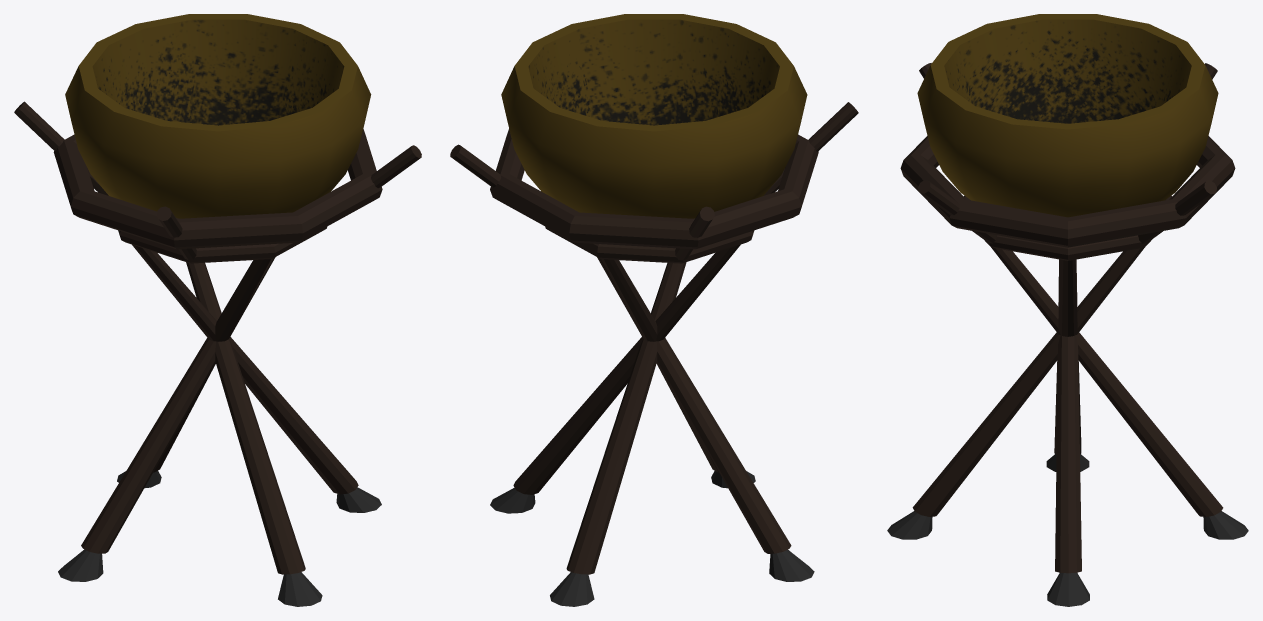
File: Ground Brazier Textured.fbx
The picture shows the model from 3 angles, left to right: view 1: azimuth 30°, elevation 25°; view 2: azimuth 150°, elevation 25°; view 3: azimuth 270°, elevation 25°; orthographic projection.
Parts seen in each view (by area): view 1: Ground_Brazier; view 2: Ground_Brazier; view 3: Ground_Brazier.
Boxes of the visible parts, x1,y1,x2,y2 form: Ground_Brazier: [14, 14, 421, 606]; Ground_Brazier: [450, 14, 858, 606]; Ground_Brazier: [887, 14, 1248, 606].
Bounding box in the file's own units: 2.38 × 3.33 × 2.38.
